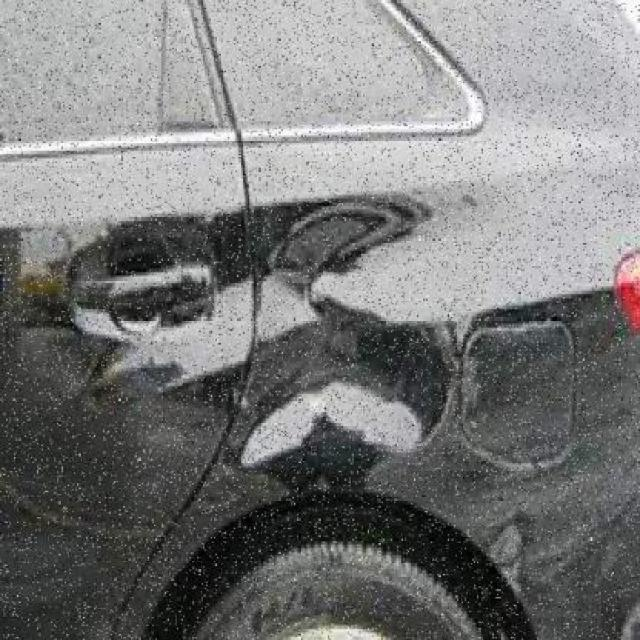quaterpanel-dent: (249, 137, 605, 634)
